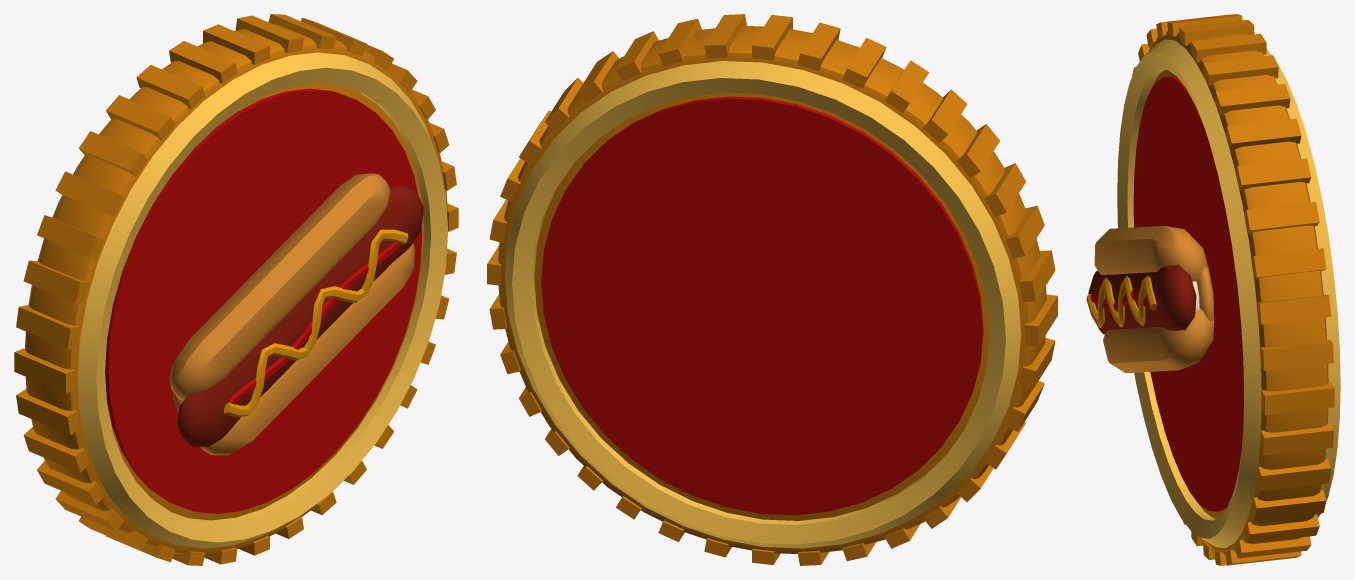
File: Coin.fbx
3 renders of one model, left to right at view 1: azimuth 30°, elevation 25°; view 2: azimuth 150°, elevation 25°; view 3: azimuth 270°, elevation 25°, orthographic. The views are drawn at different scales.
Visible parts, largest first — view 1: Coin; view 2: Coin; view 3: Coin.
Part boxes in pixels (x1,y1,x2,y2): Coin: (14, 14, 458, 565); Coin: (487, 14, 1057, 565); Coin: (1086, 14, 1340, 565).
Bounding box in the file's own units: 2.05 × 2.05 × 0.9524.
